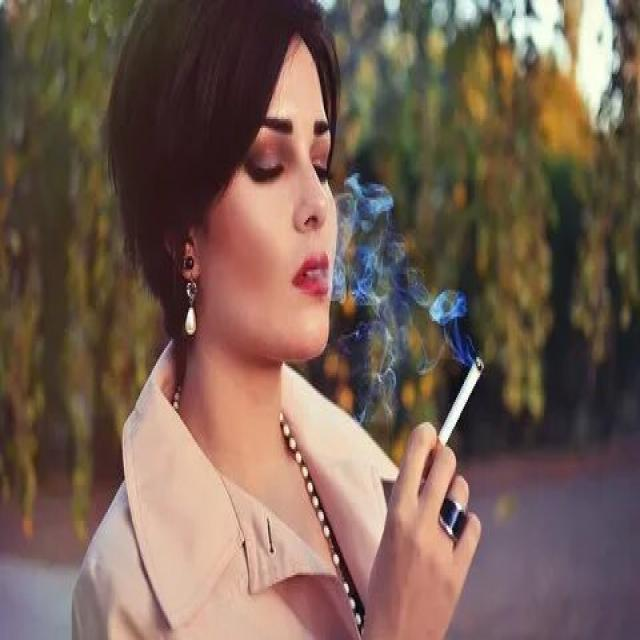smoke: (424, 353, 487, 494)
